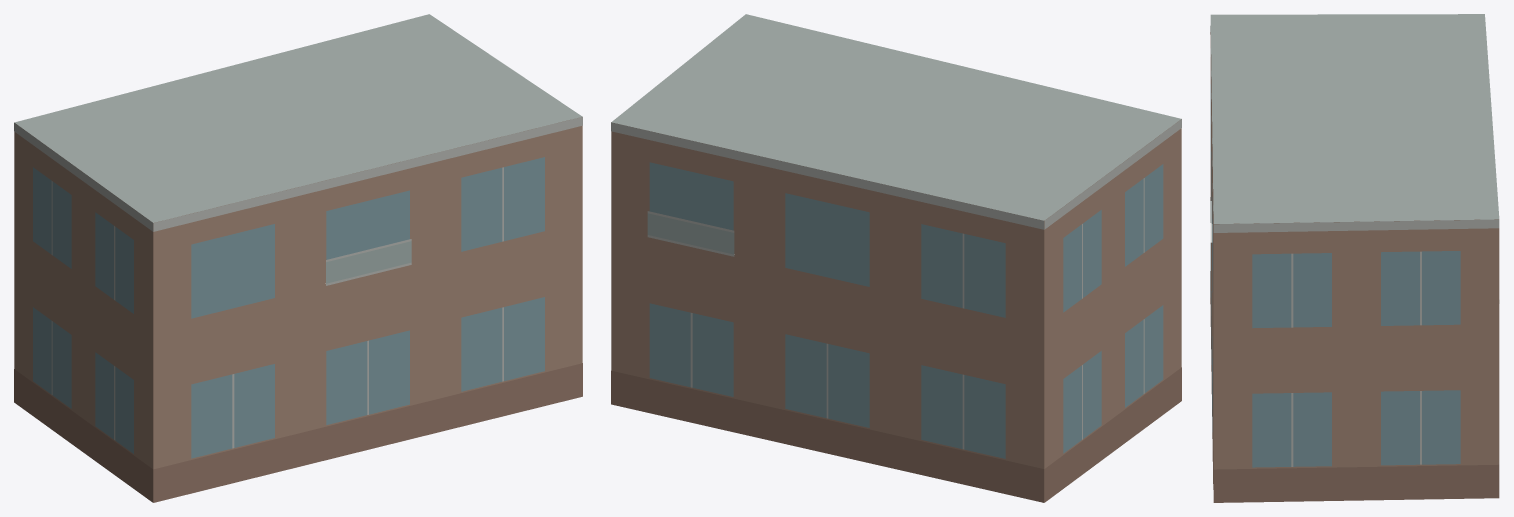
File: survey-upis-32625241.glb
3 renders of one model, left to right at view 1: azimuth 30°, elevation 25°; view 2: azimuth 150°, elevation 25°; view 3: azimuth 270°, elevation 25°, orthographic.
Parts seen in each view (by area): view 1: survey-upis-32625241.tmp; view 2: survey-upis-32625241.tmp; view 3: survey-upis-32625241.tmp.
Boxes of the visible parts, box(x1,y1,x2,y2) form: survey-upis-32625241.tmp: box(14, 14, 582, 502); survey-upis-32625241.tmp: box(611, 14, 1181, 502); survey-upis-32625241.tmp: box(1210, 14, 1499, 502).
Bounding box in the file's own units: 12.29 × 7.6 × 7.16.
